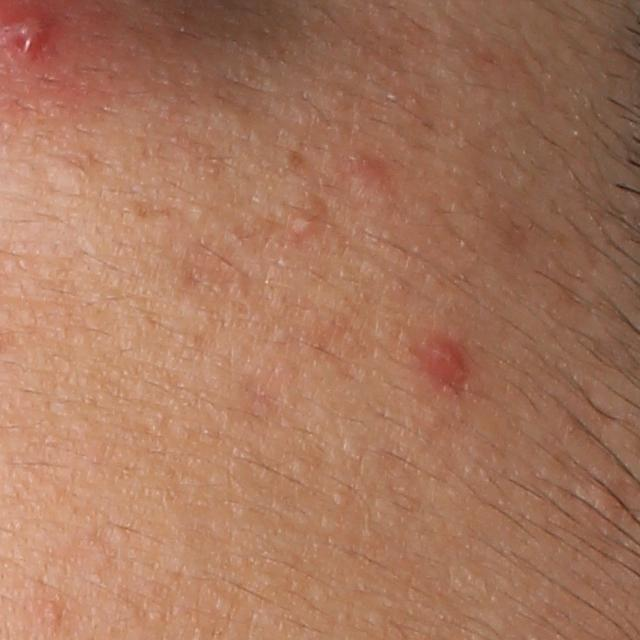papule: (424, 331, 469, 381), (345, 159, 386, 202), (285, 209, 320, 239)
